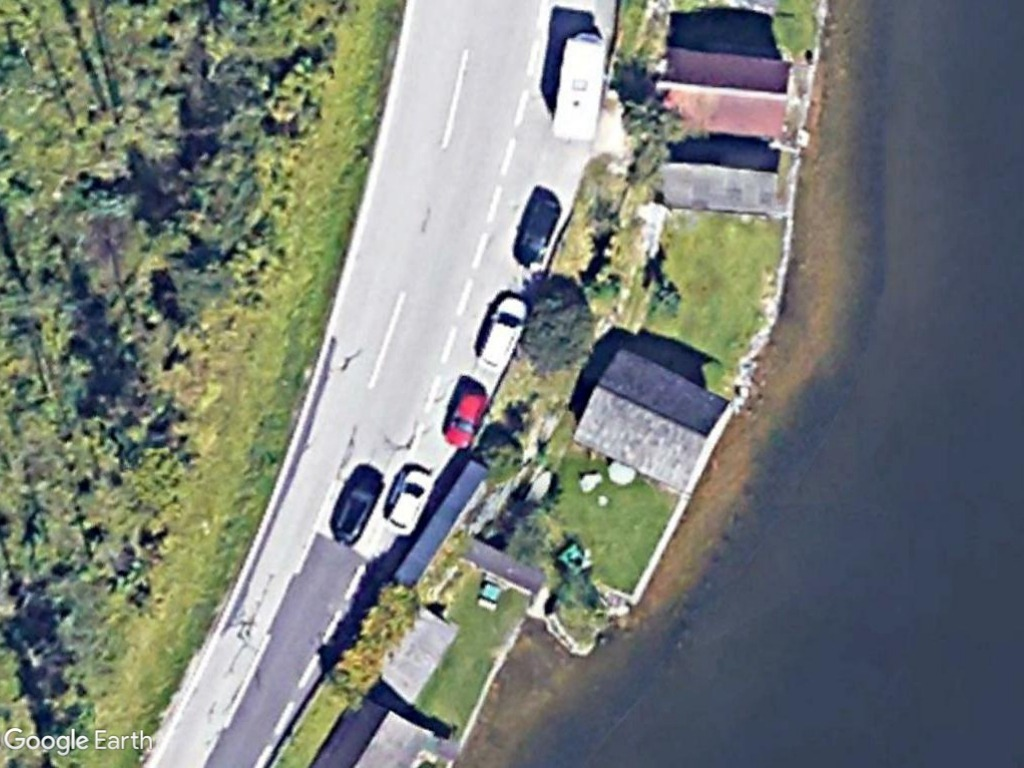car: (468, 289, 533, 381), (328, 461, 387, 550), (436, 378, 496, 458), (379, 459, 438, 538), (509, 188, 563, 271)
